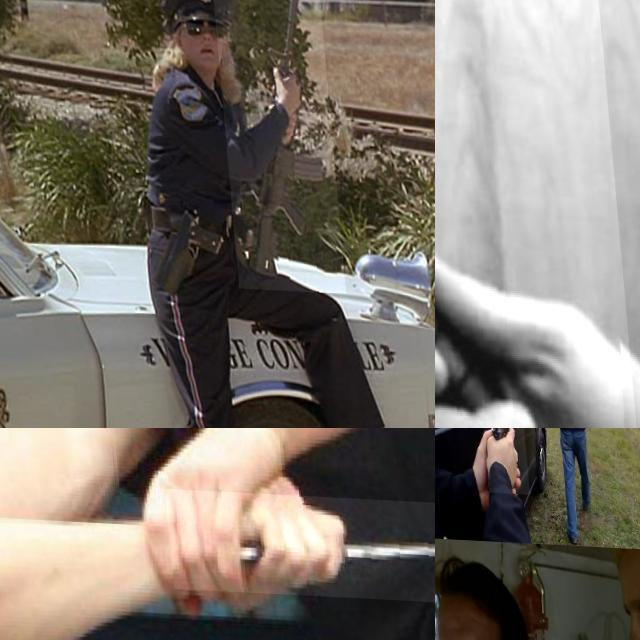-: (435, 0, 640, 428), (159, 486, 435, 599)
gun-knife-thesis - v11 Yolov5 augmented: (210, 0, 338, 289), (477, 428, 524, 493)
